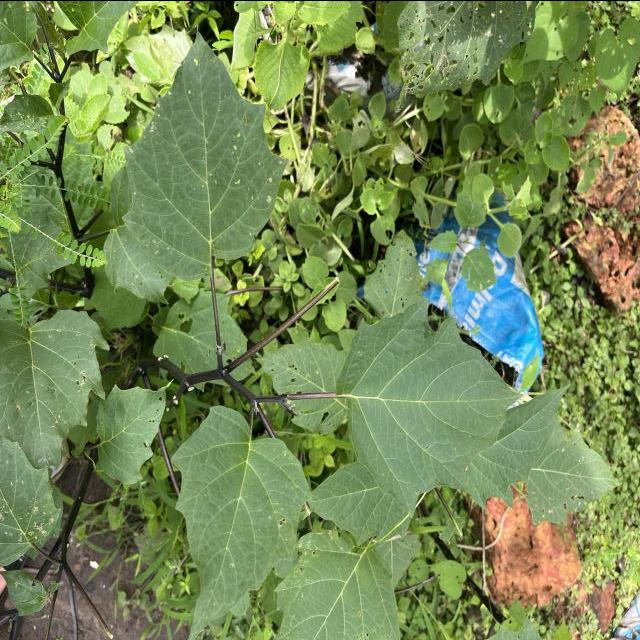Datura metal linn: (120, 20, 292, 282), (332, 292, 527, 520), (168, 402, 314, 640)
